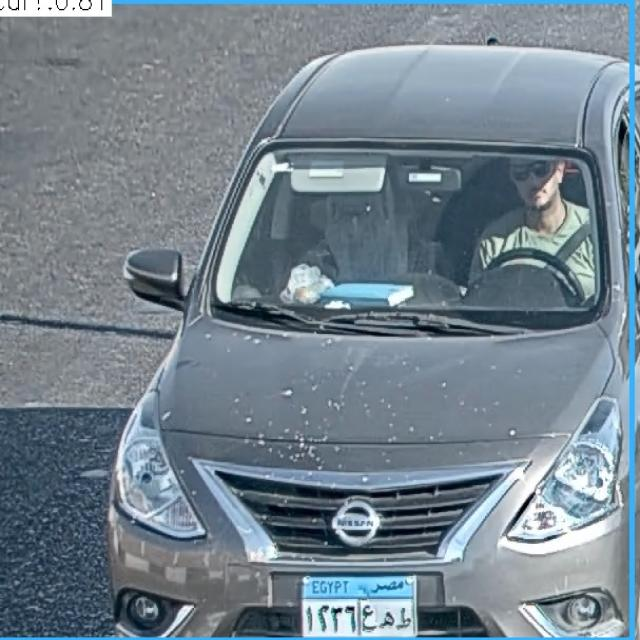windshield: (195, 144, 609, 323)
